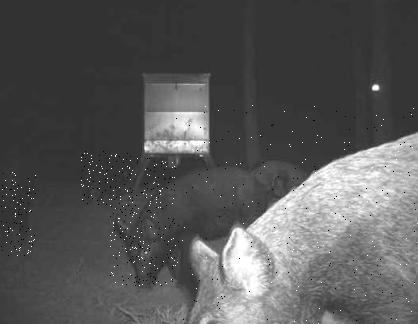Hog: (176, 104, 418, 324), (110, 158, 267, 286), (247, 150, 305, 203), (0, 172, 36, 256), (81, 151, 131, 205)
